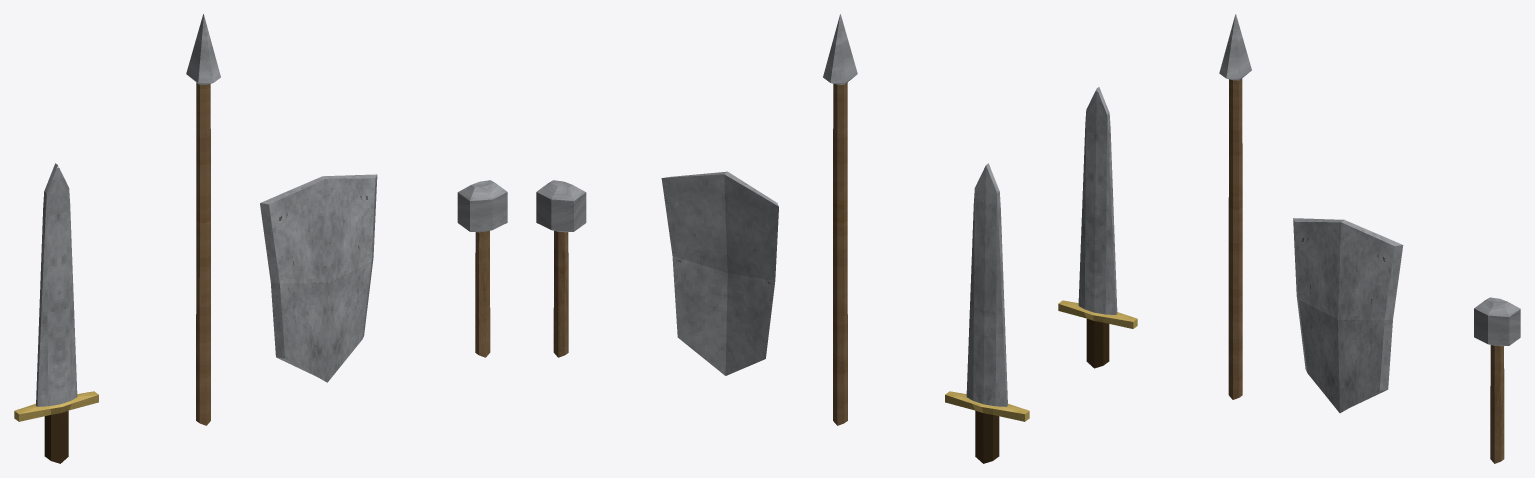
Rendered from All.glb.
3 views of the same model, side by side, from view 1: azimuth 30°, elevation 25°; view 2: azimuth 150°, elevation 25°; view 3: azimuth 330°, elevation 25° (orthographic). The views are drawn at different scales.
Visible parts, largest first — view 1: Shield, Sword, Spear, Mace; view 2: Shield, Sword, Spear, Mace; view 3: Shield, Sword, Spear, Mace.
Boxes of the visible parts, box(x1,y1,x2,y2) form: Shield: box(260, 174, 377, 382); Sword: box(14, 163, 98, 463); Spear: box(186, 14, 220, 425); Mace: box(457, 180, 507, 357); Shield: box(661, 171, 778, 375); Sword: box(945, 163, 1029, 463); Spear: box(823, 14, 857, 425); Mace: box(536, 180, 586, 357); Shield: box(1293, 218, 1403, 413); Sword: box(1058, 87, 1137, 368); Spear: box(1219, 14, 1251, 399); Mace: box(1474, 297, 1520, 463).
Size of the model in its own units: 33.01 by 26.74 by 2.35.
2 materials, 2 textured.
